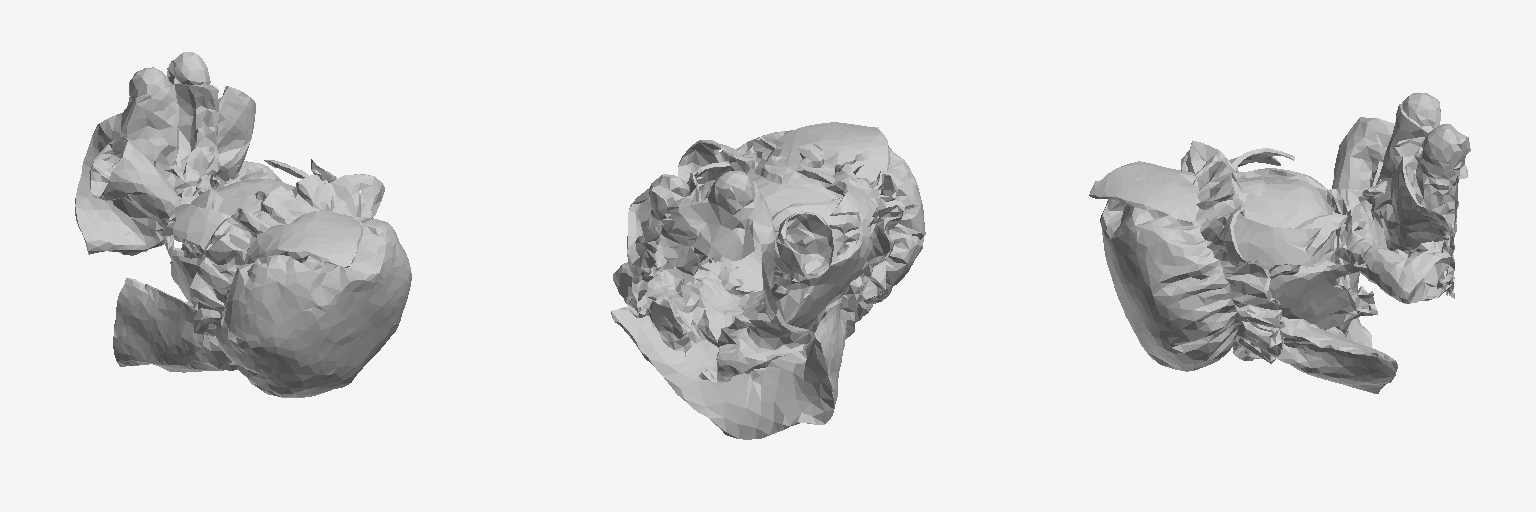
Rendered from yuyuko.obj.
3 renders of one model, left to right at view 1: azimuth 30°, elevation 25°; view 2: azimuth 150°, elevation 25°; view 3: azimuth 270°, elevation 25°, orthographic.
Visible parts, largest first — view 1: yuyu_low; view 2: yuyu_low; view 3: yuyu_low.
Part boxes in pixels (x1,y1,x2,y2): yuyu_low: (75,52,411,397); yuyu_low: (611,122,925,439); yuyu_low: (1089,93,1470,393).
Size of the model in its own units: 20.72 by 25.92 by 31.14.